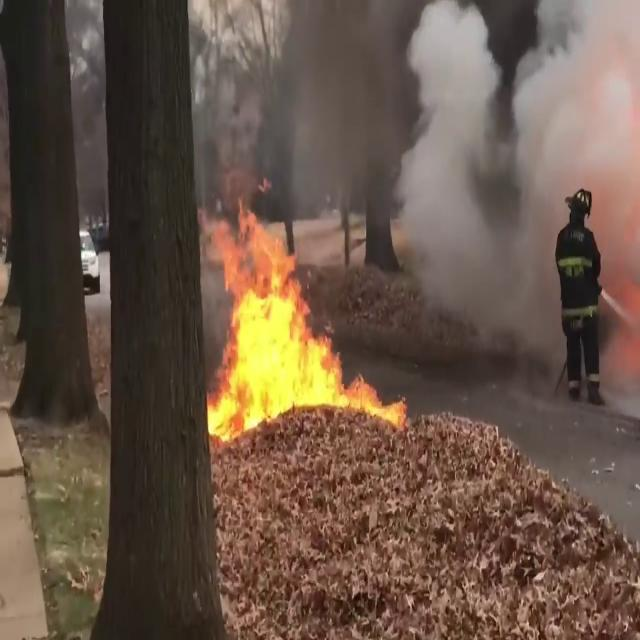Fire: (207, 196, 407, 444)
Smoke: (400, 0, 640, 422)
